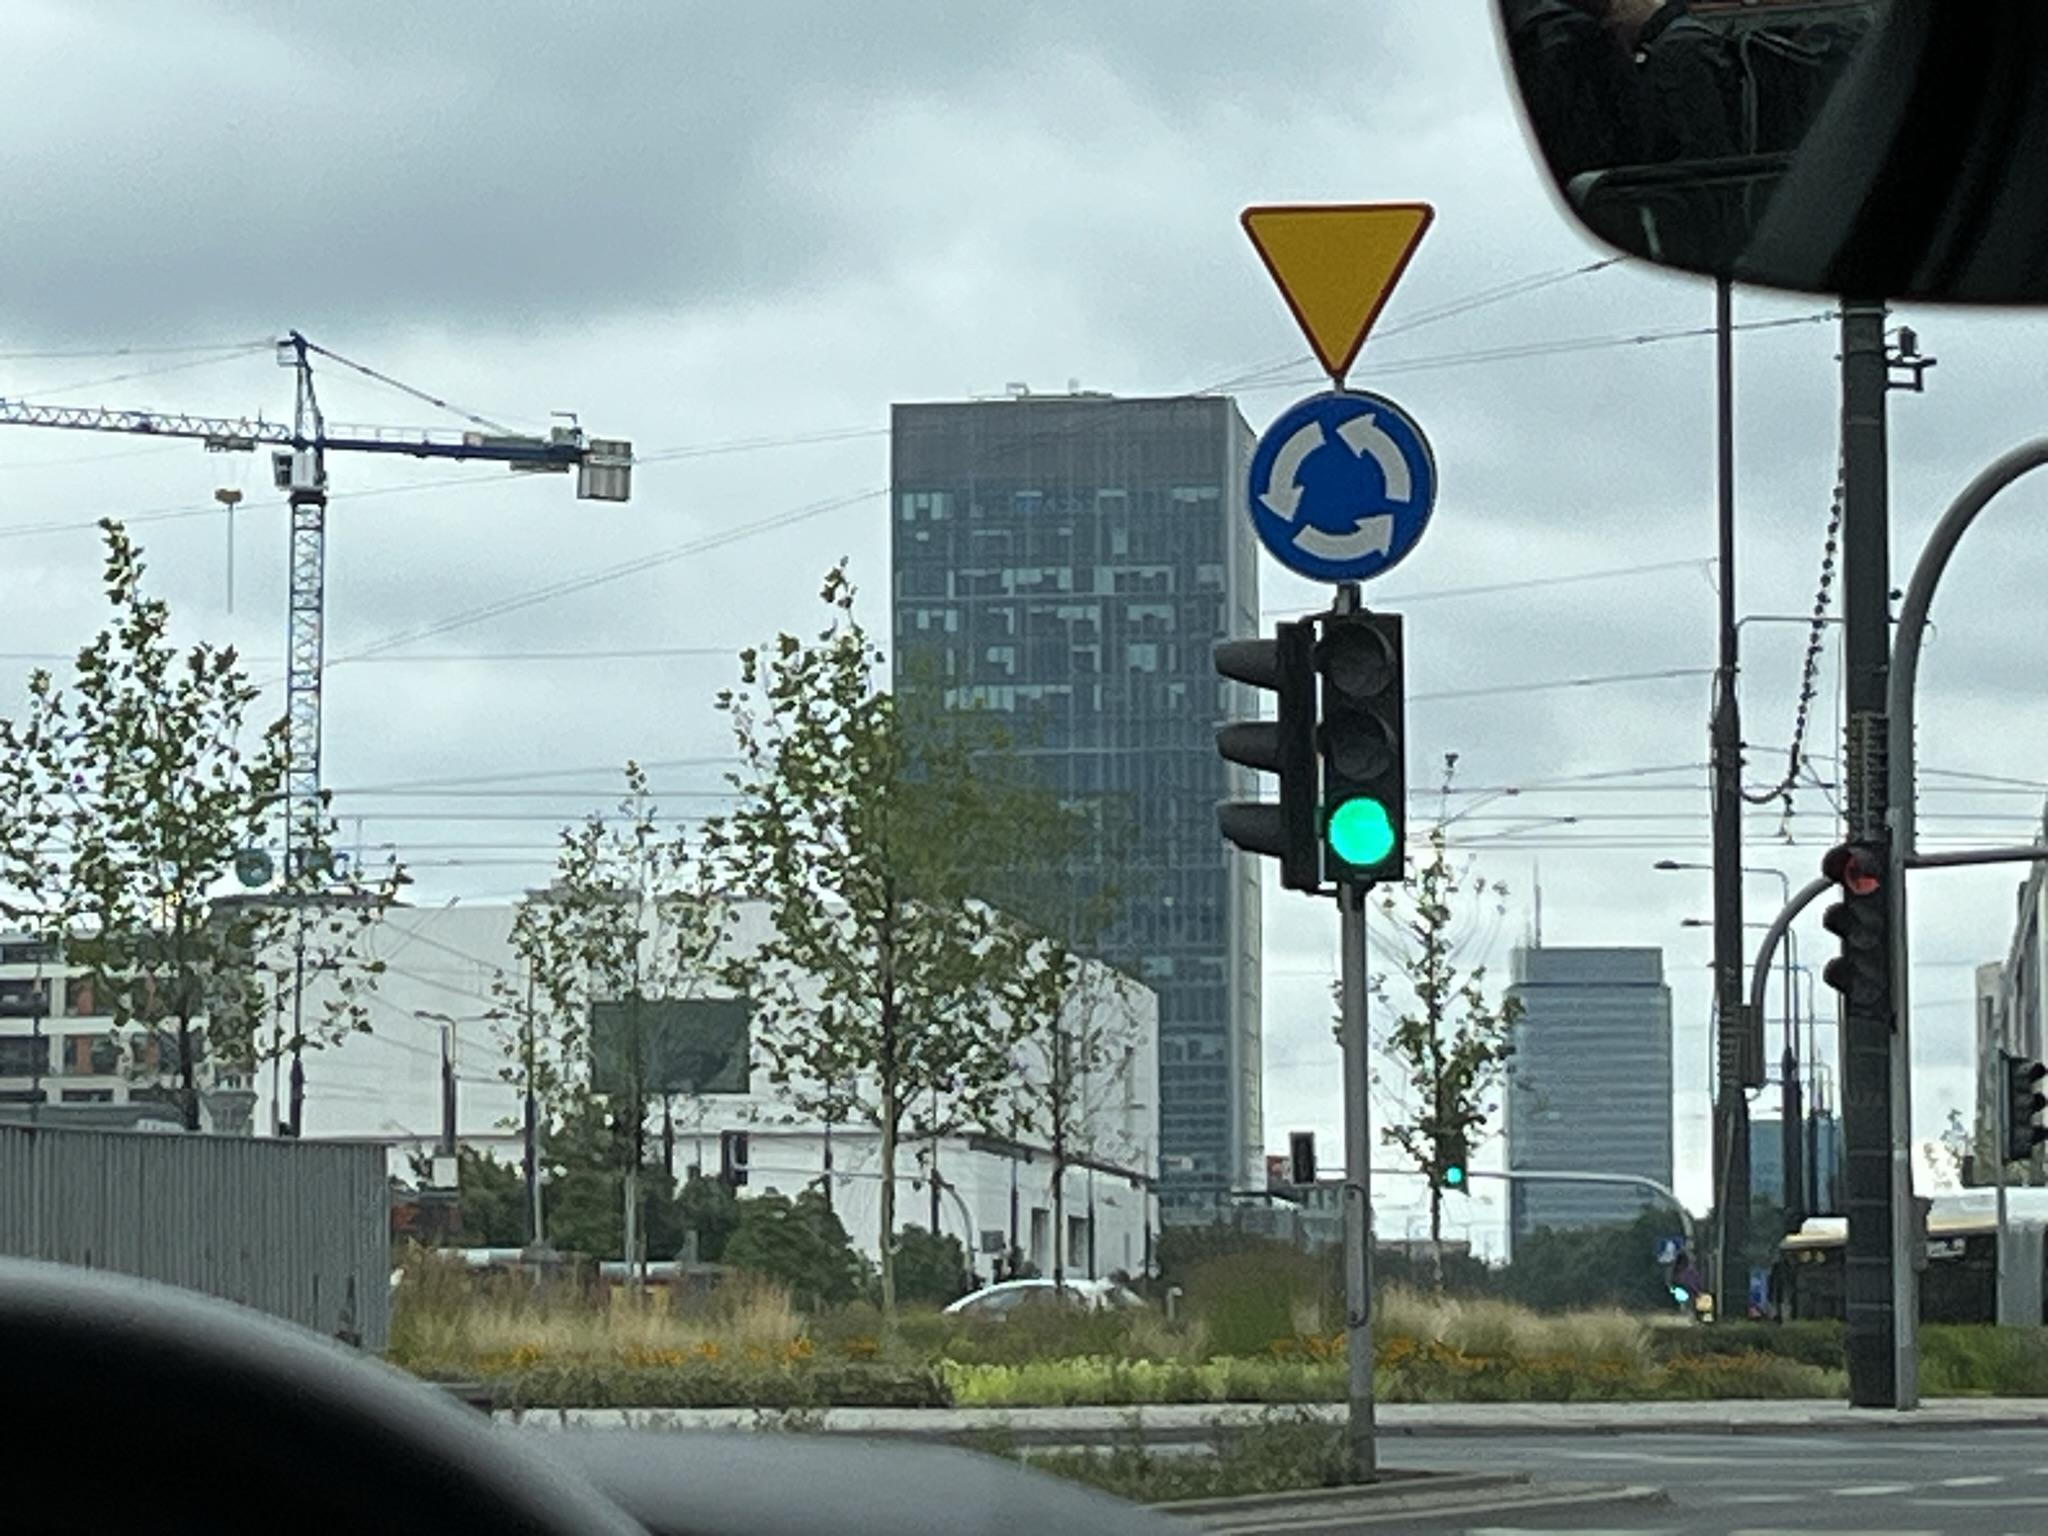information: (1656, 1236, 1682, 1265)
mandatory: (1248, 386, 1435, 586)
warning: (1238, 203, 1438, 382)
